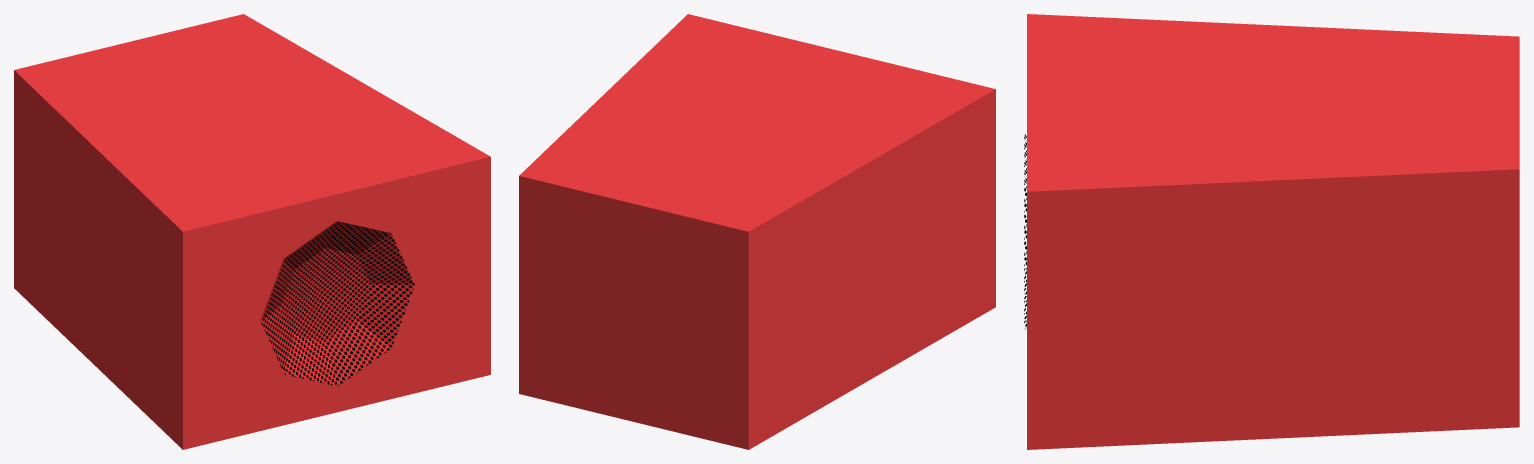
Rendered from Itr_Obj_Speaker3_Top_05.FBX.
3 views of the same model, side by side, from view 1: azimuth 30°, elevation 25°; view 2: azimuth 150°, elevation 25°; view 3: azimuth 270°, elevation 25° (orthographic). The views are drawn at different scales.
Visible parts, largest first — view 1: Itr_Obj_Speaker3_Top_05; view 2: Itr_Obj_Speaker3_Top_05; view 3: Itr_Obj_Speaker3_Top_05.
Boxes of the visible parts, left/top/right/bottom form: Itr_Obj_Speaker3_Top_05: left=14, top=14, right=490, bottom=449; Itr_Obj_Speaker3_Top_05: left=519, top=14, right=995, bottom=449; Itr_Obj_Speaker3_Top_05: left=1024, top=14, right=1519, bottom=449.
Size of the model in its own units: 9.88 by 6.69 by 11.62.
